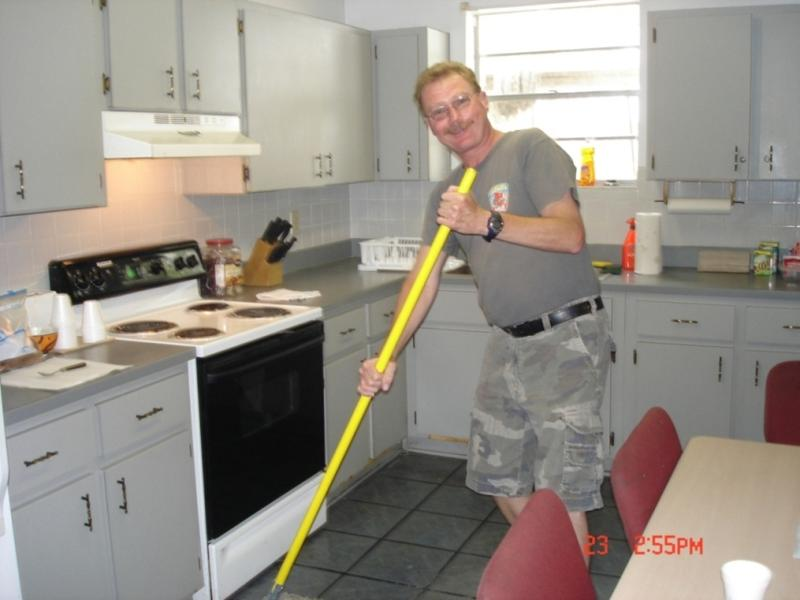person: (357, 62, 611, 571)
